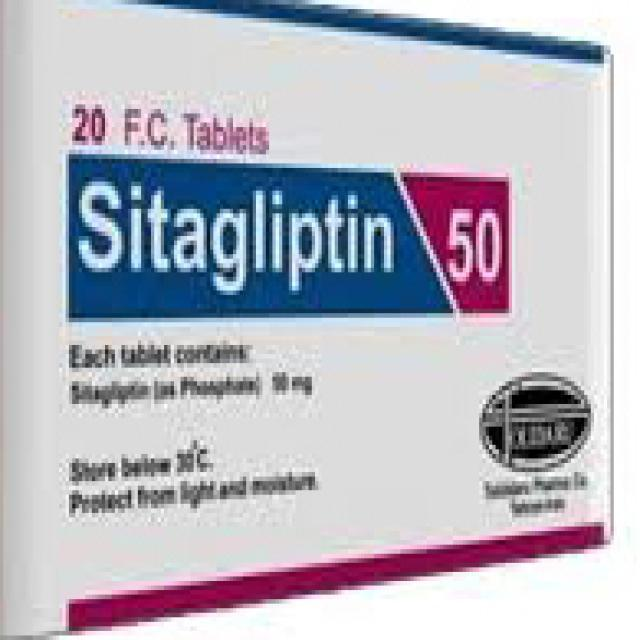drug-name: (78, 180, 504, 294)
